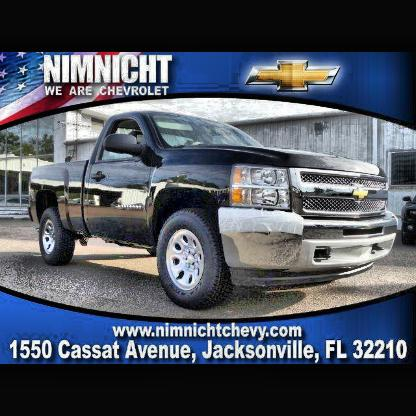Chevrolet Silverado 1500 Regular Cab 2012: (28, 111, 399, 311)
